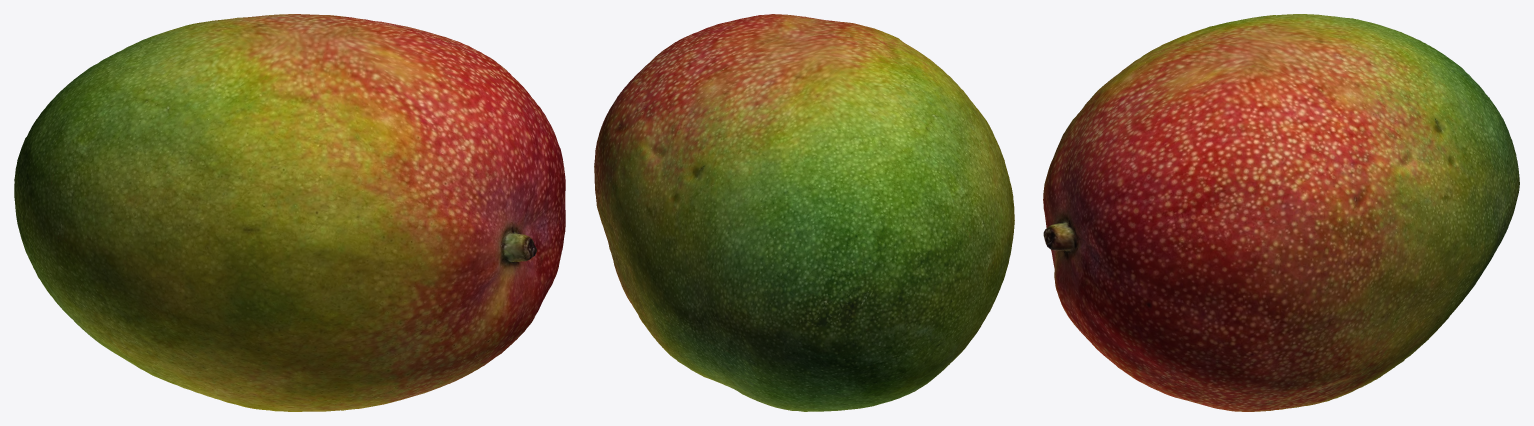
The model's file is mango.glb.
The picture shows the model from 3 angles, left to right: view 1: azimuth 30°, elevation 25°; view 2: azimuth 150°, elevation 25°; view 3: azimuth 270°, elevation 25°; orthographic projection. The views are drawn at different scales.
Parts seen in each view (by area): view 1: Mango; view 2: Mango; view 3: Mango.
Part boxes in pixels (box(x1,y1,x2,y2)): Mango: box(14, 14, 565, 411); Mango: box(594, 14, 1014, 411); Mango: box(1043, 14, 1519, 411).
Bounding box in the file's own units: 0.1114 × 0.0845 × 0.1103.
1 material, 1 textured.
